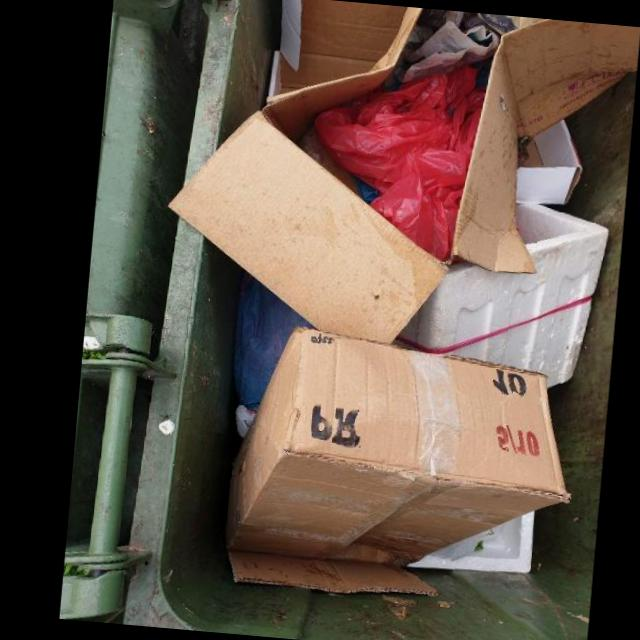carton: (167, 0, 640, 346), (224, 327, 570, 597), (516, 119, 582, 205)
giay: (393, 8, 547, 83)
tui_ni_long: (314, 66, 484, 262)
xop: (392, 203, 609, 388), (405, 511, 534, 573)
